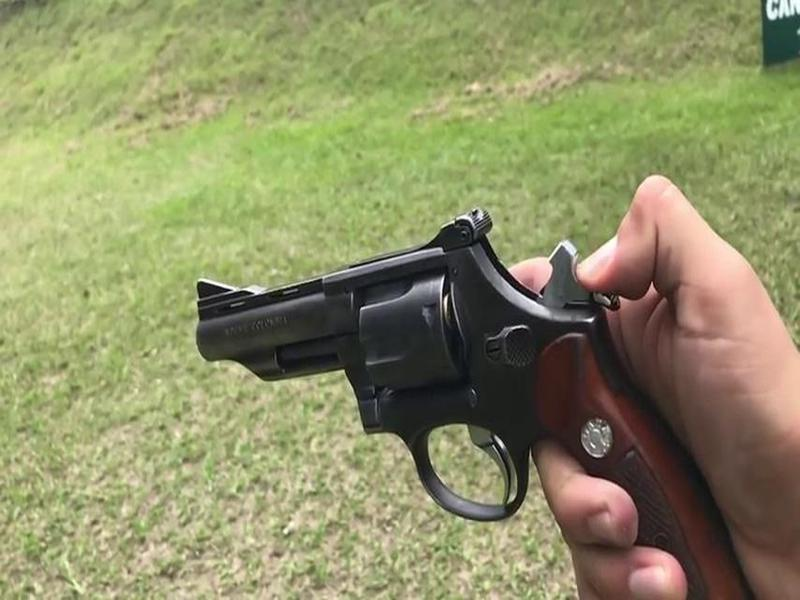Revolver: (187, 204, 753, 594)
